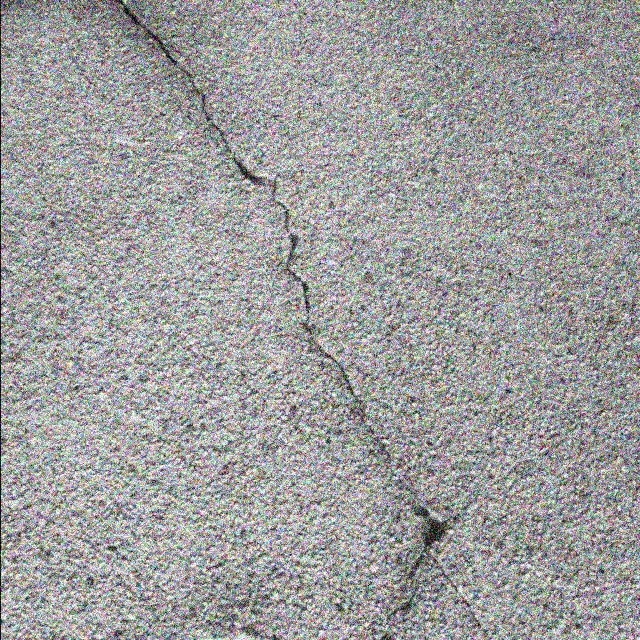SurfaceCrack: (60, 1, 529, 640)
